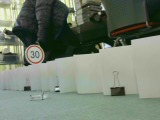speed_30: (24, 43, 45, 66)
